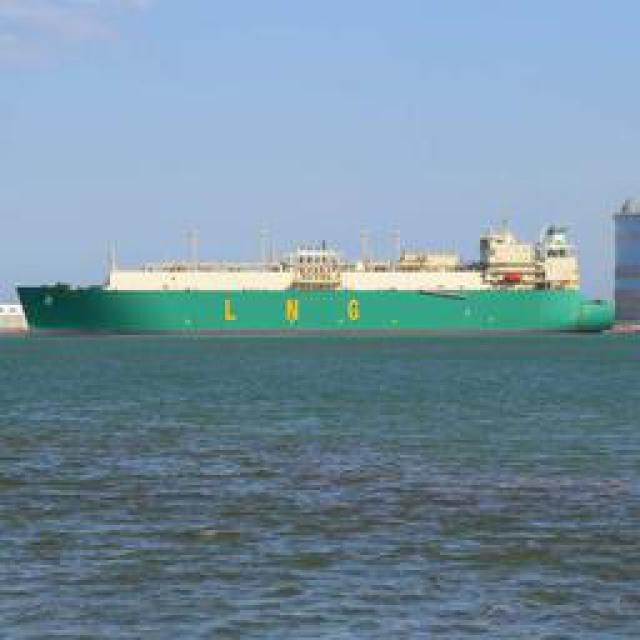Ship: (48, 221, 606, 339)
